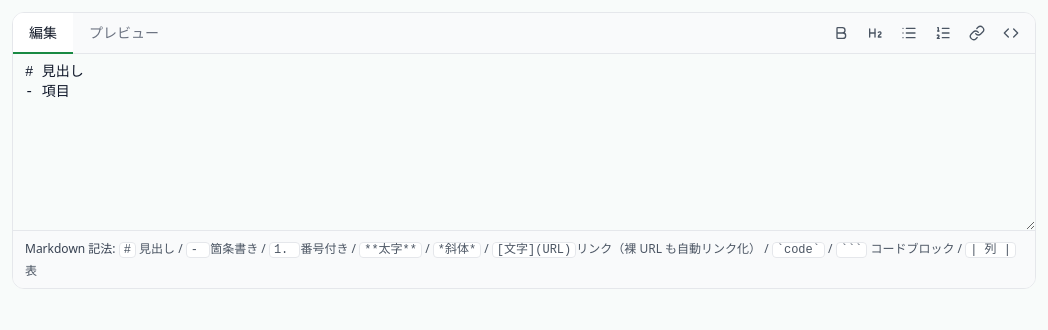
Test: MarkdownEditor › switches to preview tab and renders Markdown
Click the button "プレビュー" at (124, 33), box [73,13,175,53]
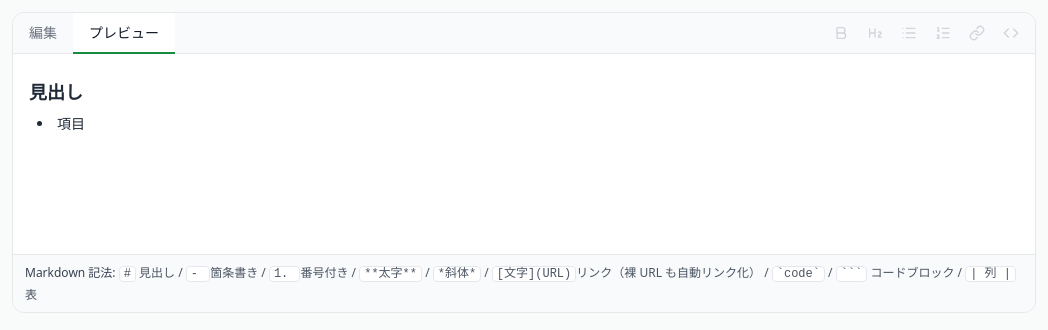
Expected: the heading "見出し" is shown, [29,80,83,104]
Expected: the list item "項目" is shown, [57,114,85,133]
